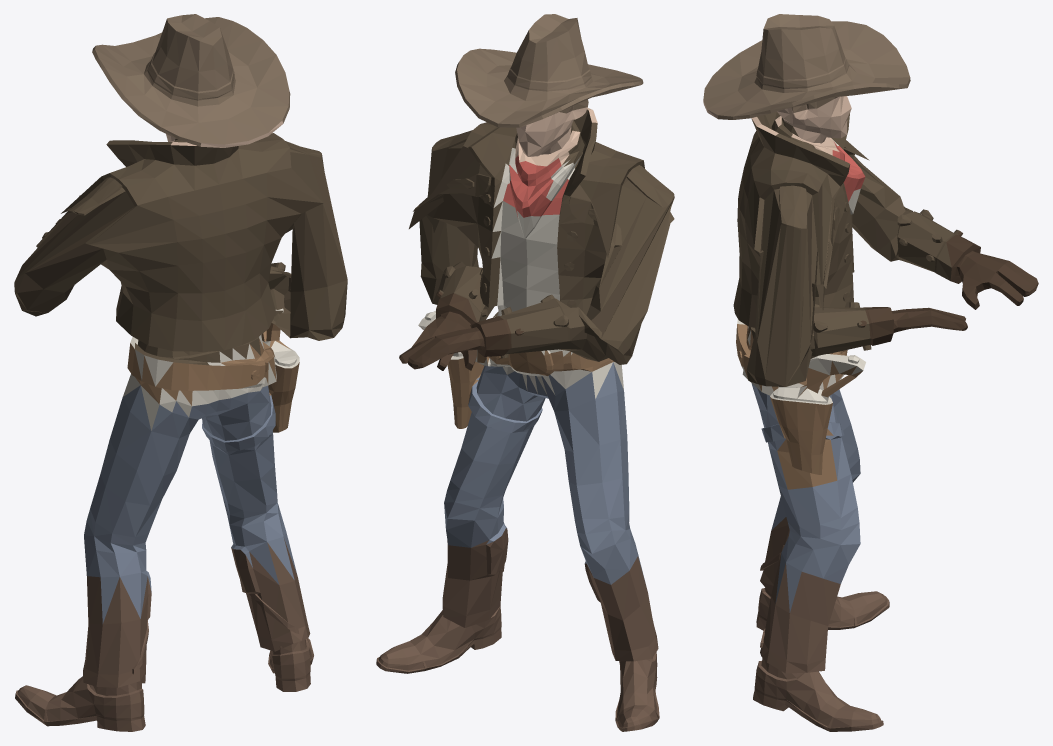
File: cowboy_tripo.glb
3 renders of one model, left to right at view 1: azimuth 30°, elevation 25°; view 2: azimuth 150°, elevation 25°; view 3: azimuth 270°, elevation 25°, orthographic. The views are drawn at different scales.
Visible parts, largest first — view 1: CowboyBody, CowboyLegL, CowboyHead, CowboyLegR, CowboyArms; view 2: CowboyBody, CowboyLegR, CowboyLegL, CowboyHead, CowboyArms; view 3: CowboyBody, CowboyLegR, CowboyHead, CowboyArms, CowboyLegL.
Boxes of the visible parts, <box> form: CowboyBody: <box>16,133,347,430</box>; CowboyLegL: <box>15,385,208,731</box>; CowboyHead: <box>92,14,290,147</box>; CowboyLegR: <box>202,362,313,691</box>; CowboyArms: <box>14,195,347,340</box>; CowboyBody: <box>409,109,674,398</box>; CowboyLegR: <box>376,358,545,673</box>; CowboyLegL: <box>541,362,659,731</box>; CowboyHead: <box>455,14,643,166</box>; CowboyArms: <box>399,258,647,370</box>; CowboyBody: <box>733,111,905,404</box>; CowboyLegR: <box>751,383,883,731</box>; CowboyHead: <box>703,14,910,155</box>; CowboyArms: <box>746,187,1038,386</box>; CowboyLegL: <box>756,389,889,630</box>.
Size of the model in its own units: 0.794 by 1.85 by 0.861.
